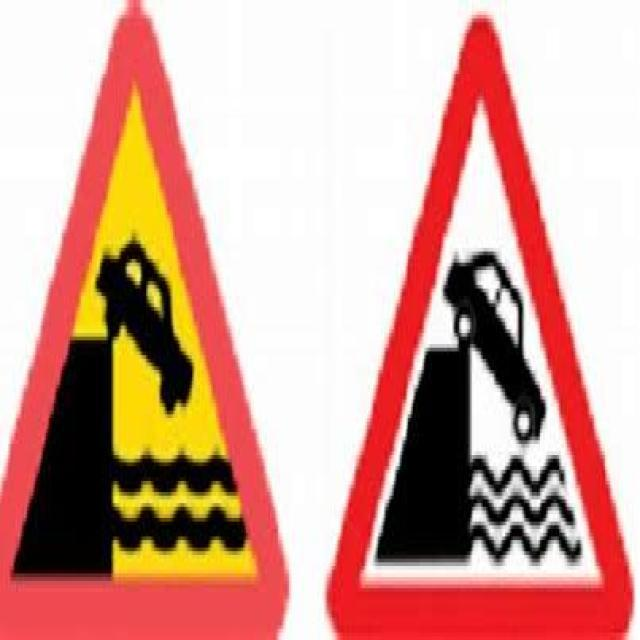quay side or river bank: (323, 16, 628, 632)
